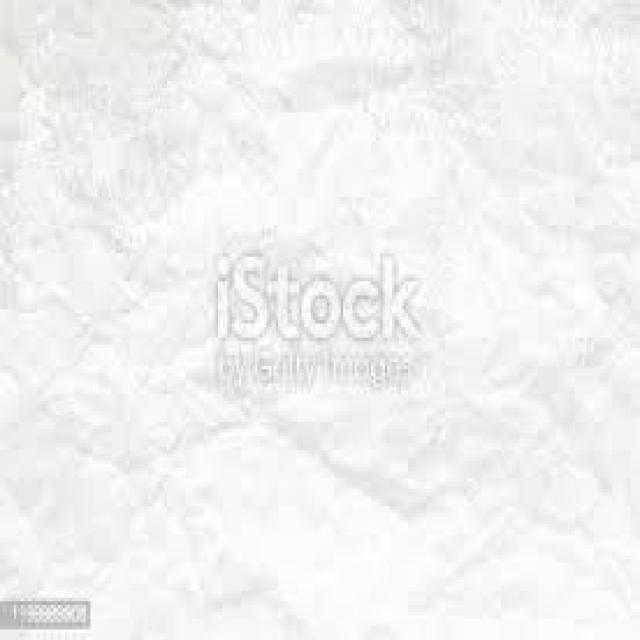paper: (0, 0, 638, 598)
